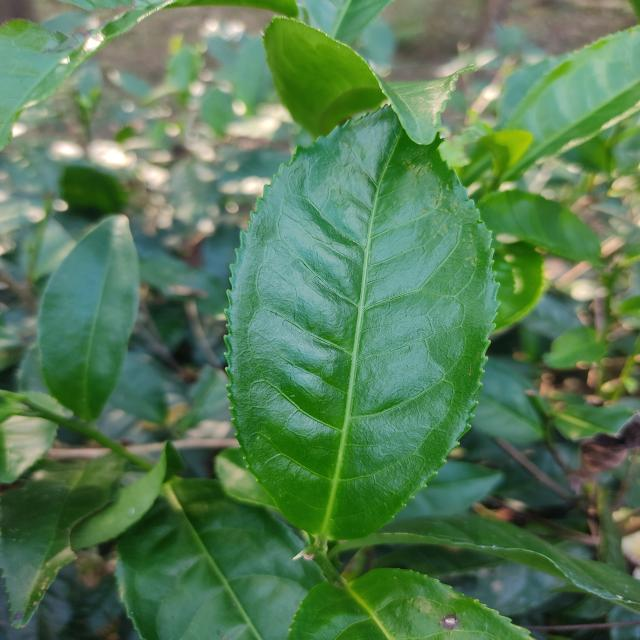Category D 7+ days, Not for Tea: (202, 94, 506, 560)
